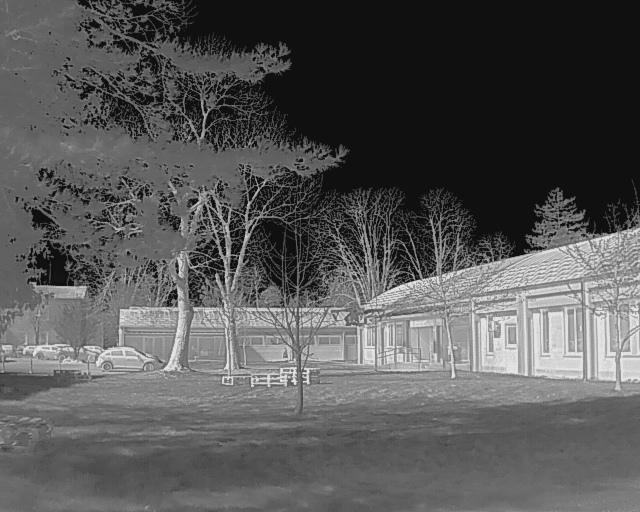drone: (326, 286, 389, 348)
